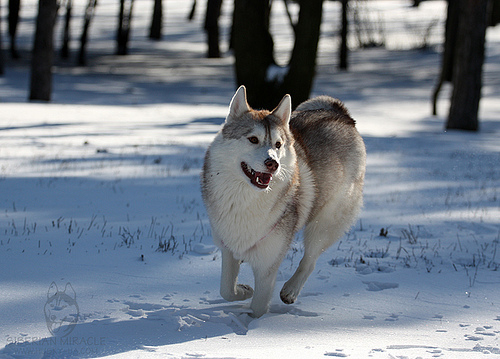dog: (201, 76, 374, 322)
